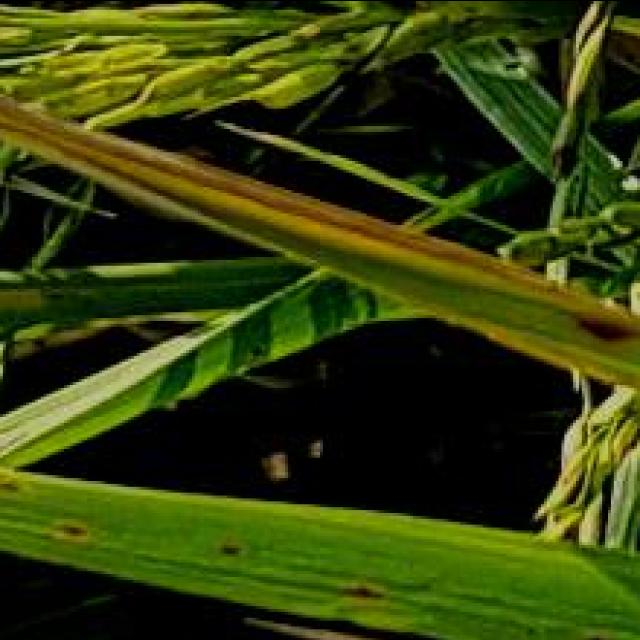Bacterial_Leaf_Blight: (1, 82, 558, 346)
